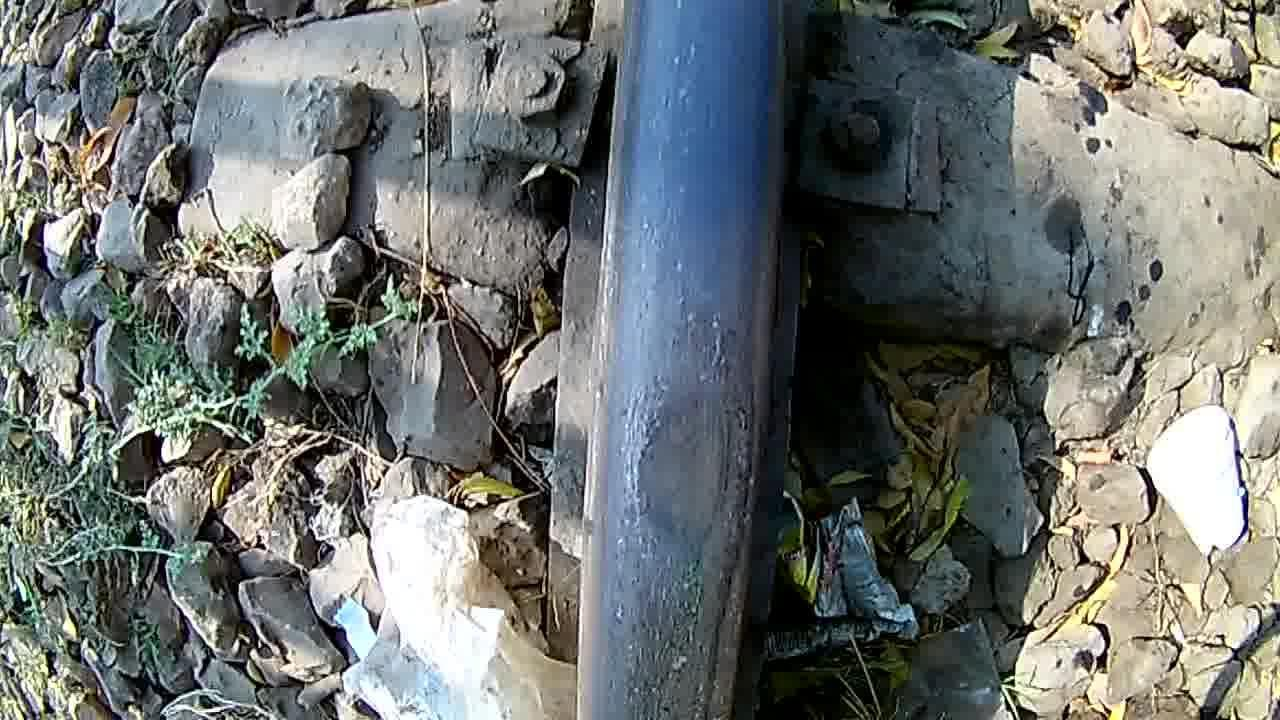crack: (597, 348, 764, 638)
